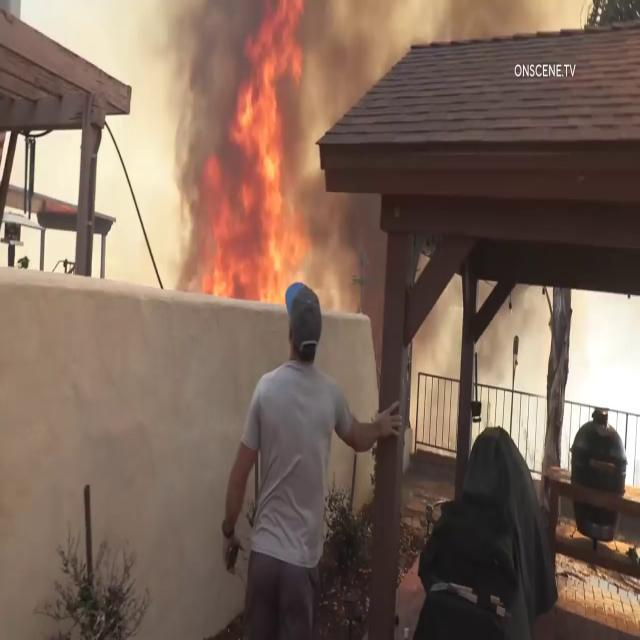Fire: (205, 12, 339, 304), (558, 293, 640, 495)
